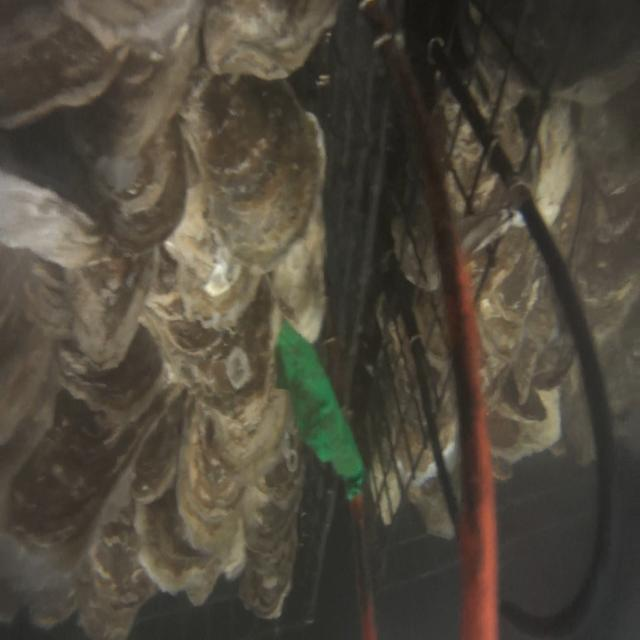Oyster-Closed: (176, 387, 304, 618), (182, 76, 325, 271), (389, 256, 459, 531), (10, 389, 118, 544), (78, 116, 185, 251), (162, 187, 258, 324), (196, 278, 280, 411), (0, 247, 56, 446), (202, 0, 339, 80), (479, 227, 551, 378), (66, 251, 156, 369), (59, 324, 165, 424), (135, 487, 220, 604), (0, 171, 101, 269), (571, 189, 640, 329), (488, 371, 561, 464), (131, 391, 185, 504), (579, 98, 640, 193), (391, 184, 440, 291), (535, 102, 576, 227), (459, 207, 524, 262)
